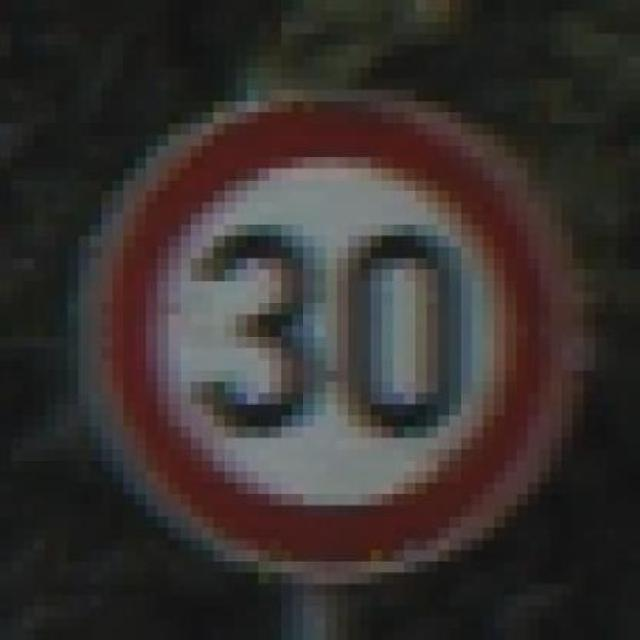Speed Limit 30 KMPh: (33, 78, 618, 572)
